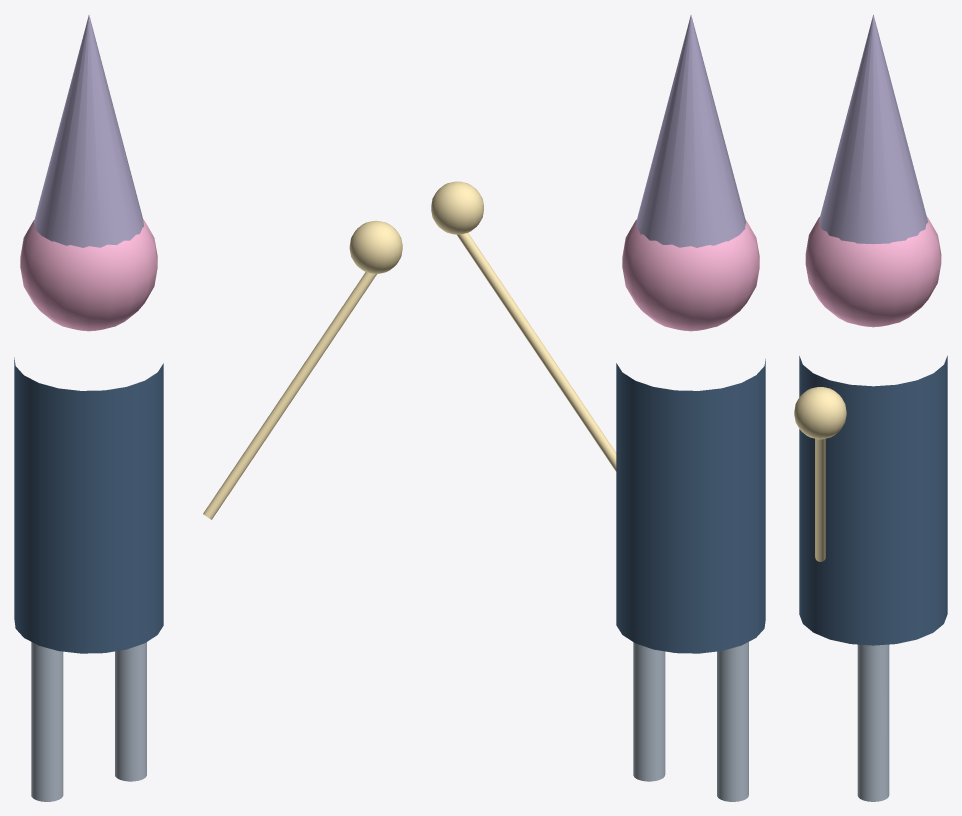
File: star-mage-kid.glb
The picture shows the model from 3 angles, left to right: view 1: azimuth 30°, elevation 25°; view 2: azimuth 150°, elevation 25°; view 3: azimuth 270°, elevation 25°; orthographic projection.
Parts seen in each view (by area): view 1: star-mage-kid-robe, star-mage-kid-hat, star-mage-kid-head, star-mage-kid-left-leg, star-mage-kid-right-leg, star-mage-kid-wand, star-mage-kid-wand-star; view 2: star-mage-kid-robe, star-mage-kid-hat, star-mage-kid-head, star-mage-kid-left-leg, star-mage-kid-right-leg, star-mage-kid-wand, star-mage-kid-wand-star; view 3: star-mage-kid-robe, star-mage-kid-hat, star-mage-kid-head, star-mage-kid-right-leg, star-mage-kid-wand-star, star-mage-kid-wand.
Part boxes in pixels (x1,y1,x2,y2): star-mage-kid-robe: (14,357,163,653); star-mage-kid-hat: (34,14,143,247); star-mage-kid-head: (20,219,157,331); star-mage-kid-left-leg: (31,642,63,801); star-mage-kid-right-leg: (115,642,146,781); star-mage-kid-wand: (203,272,376,519); star-mage-kid-wand-star: (349,220,402,273); star-mage-kid-robe: (616,359,765,653); star-mage-kid-hat: (636,14,745,247); star-mage-kid-head: (622,219,759,331); star-mage-kid-left-leg: (717,642,748,801); star-mage-kid-right-leg: (633,642,665,781); star-mage-kid-wand: (457,233,616,471); star-mage-kid-wand-star: (431,181,483,234); star-mage-kid-robe: (799,355,947,645); star-mage-kid-hat: (818,14,927,244); star-mage-kid-head: (805,217,941,327); star-mage-kid-right-leg: (857,644,889,801); star-mage-kid-wand-star: (794,387,846,439); star-mage-kid-wand: (815,438,825,561).
Size of the model in its own units: 1.5 by 3.17 by 0.5785.
